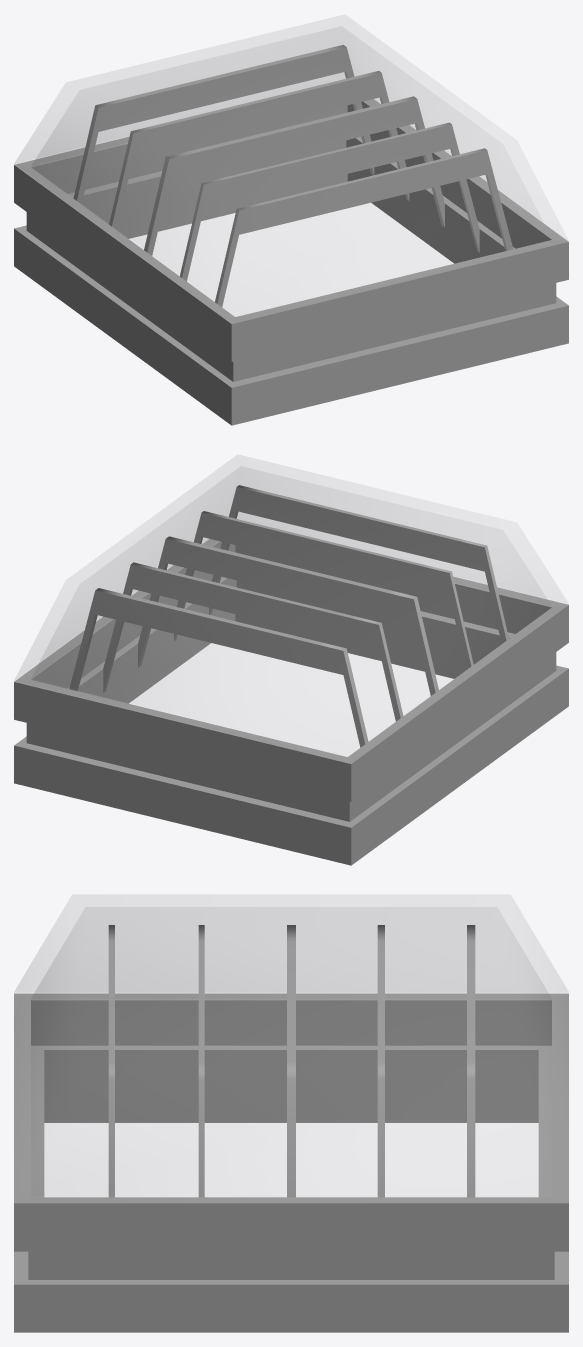
The model's file is Skylight_Small.fbx.
The picture shows the model from 3 angles, top to bottom: view 1: azimuth 30°, elevation 25°; view 2: azimuth 150°, elevation 25°; view 3: azimuth 270°, elevation 25°; orthographic projection. The views are drawn at different scales.
Parts seen in each view (by area): view 1: polySurface36, polySurface37; view 2: polySurface36, polySurface37; view 3: polySurface37, polySurface36.
Part boxes in pixels (x1,y1,x2,y2): polySurface36: (14,44,568,425); polySurface37: (15,15,567,322); polySurface36: (14,485,568,865); polySurface37: (15,455,567,762); polySurface37: (14,895,568,1201); polySurface36: (14,925,568,1332).
Bounding box in the file's own units: 1367 × 750 × 1528.
2 materials, 1 textured.
